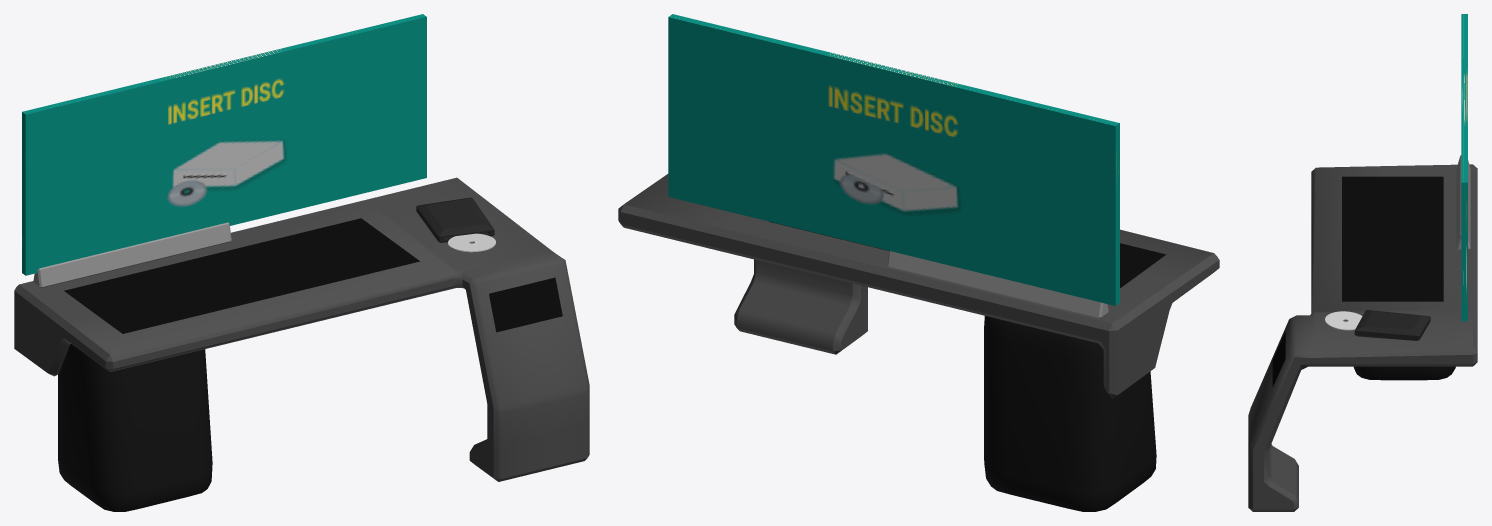
The model's file is PcController_Animation.fbx.
3 views of the same model, side by side, from view 1: azimuth 30°, elevation 25°; view 2: azimuth 150°, elevation 25°; view 3: azimuth 270°, elevation 25° (orthographic). The views are drawn at different scales.
Visible parts, largest first — view 1: Box005, Box001, ControlRoomPCController_01, Plane003, Box004, Plane004, CDReader001, CD001; view 2: Box005, Box001, ControlRoomPCController_01, Box004, Plane003; view 3: Box001, Plane003, Box005, CDReader001, ControlRoomPCController_01, Box004, CD001, Plane004.
Part boxes in pixels (<box>): Box005: <box>22,14,426,275</box>; Box001: <box>14,177,589,481</box>; ControlRoomPCController_01: <box>58,344,212,511</box>; Plane003: <box>64,218,419,333</box>; Box004: <box>33,222,231,287</box>; Plane004: <box>489,277,562,332</box>; CDReader001: <box>416,197,494,242</box>; CD001: <box>448,233,495,252</box>; Box005: <box>668,14,1119,305</box>; Box001: <box>618,174,1219,398</box>; ControlRoomPCController_01: <box>984,316,1156,511</box>; Box004: <box>887,251,1108,318</box>; Plane003: <box>769,221,1166,288</box>; Box001: <box>1248,164,1477,511</box>; Plane003: <box>1342,176,1443,301</box>; Box005: <box>1461,14,1467,321</box>; CDReader001: <box>1354,310,1430,340</box>; ControlRoomPCController_01: <box>1353,366,1455,380</box>; Box004: <box>1456,155,1470,249</box>; CD001: <box>1325,311,1362,330</box>; Plane004: <box>1272,331,1285,387</box>.
Bounding box in the file's own units: 93.4 × 48.18 × 72.7.
Materials: 7 (1 with a texture image).
